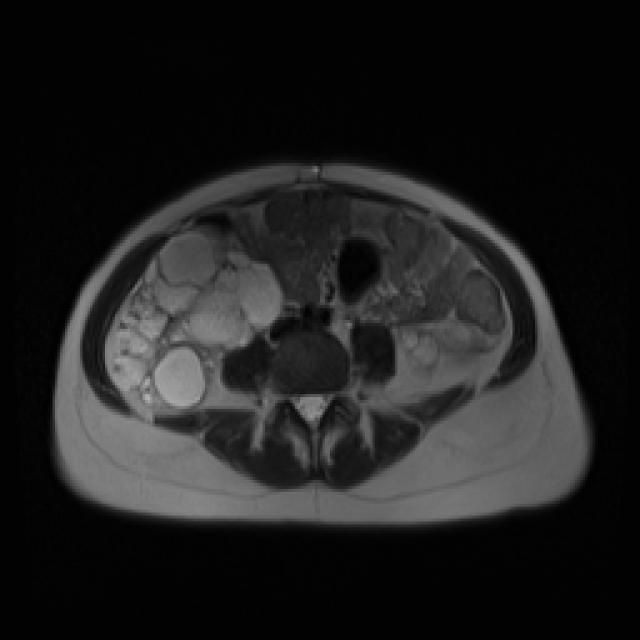sag: (109, 223, 282, 409)
sol: (398, 319, 484, 372)
